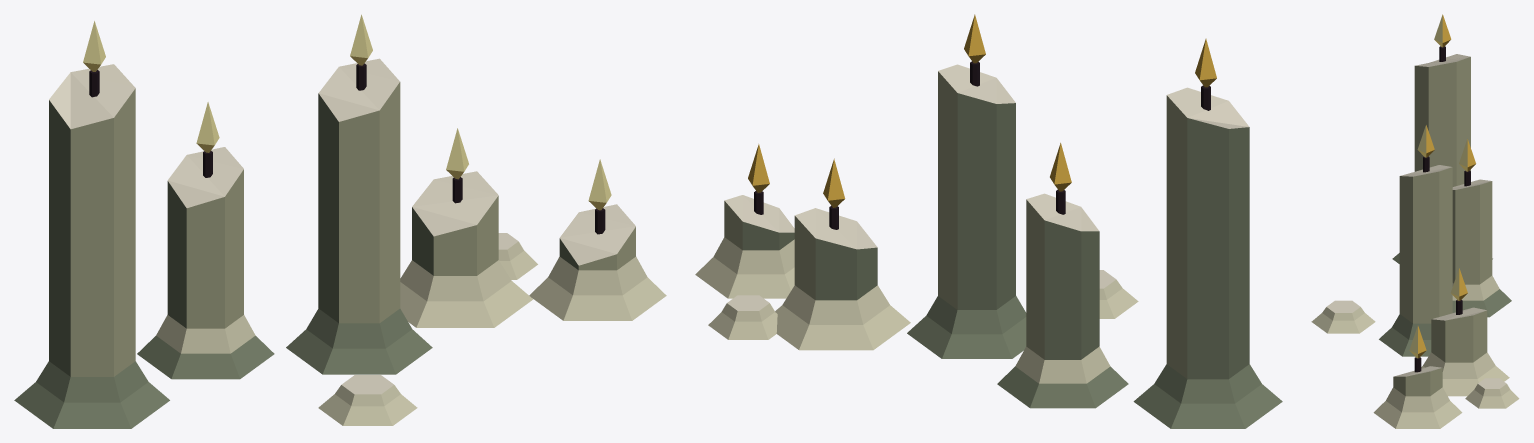
File: fuellung_kerzen_brennend.glb
3 renders of one model, left to right at view 1: azimuth 30°, elevation 25°; view 2: azimuth 150°, elevation 25°; view 3: azimuth 270°, elevation 25°, orthographic. The views are drawn at different scales.
Visible parts, largest first — view 1: kerzen_brennend; view 2: kerzen_brennend; view 3: kerzen_brennend.
Boxes of the visible parts, x1,y1,x2,y2 form: kerzen_brennend: (14, 14, 666, 428); kerzen_brennend: (695, 14, 1282, 428); kerzen_brennend: (1311, 14, 1519, 428).
Size of the model in its own units: 0.5398 by 0.328 by 0.252.
Materials: 1 (1 with a texture image).
